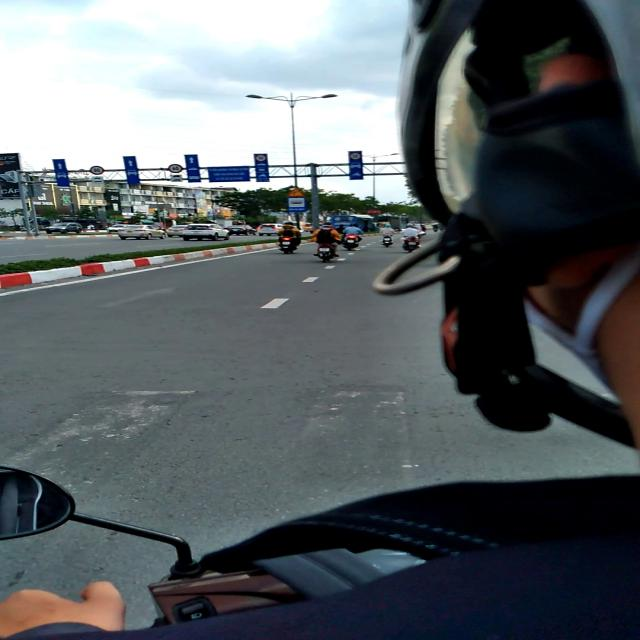P.127: (89, 166, 105, 176), (168, 164, 184, 173), (255, 154, 267, 162), (349, 152, 362, 159)
R.434: (287, 197, 307, 212)
W.201b: (288, 188, 306, 196)
